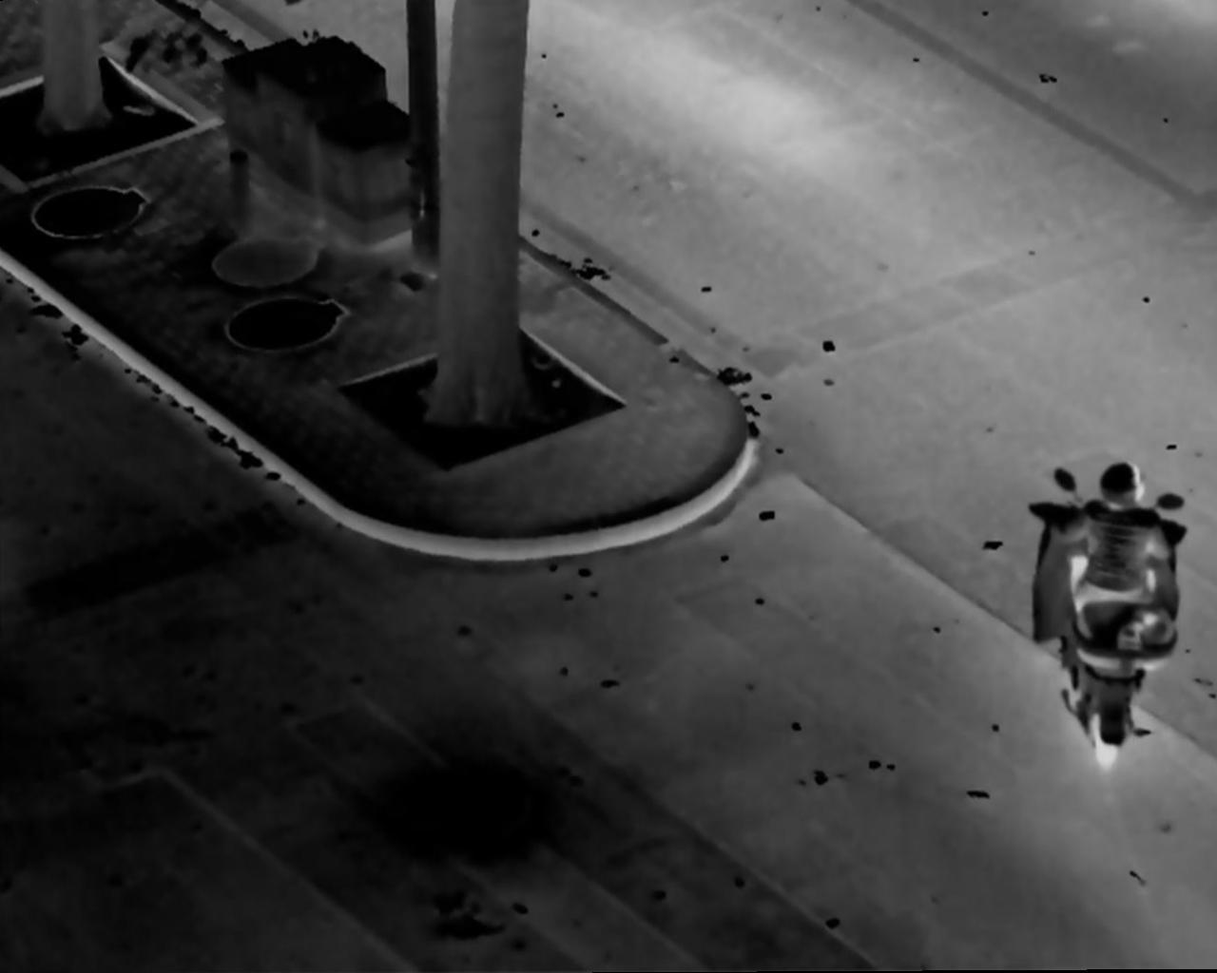person: (1072, 457, 1155, 745)
